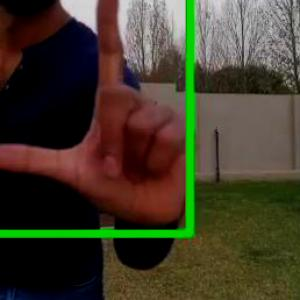land_hand: (1, 0, 198, 212)
